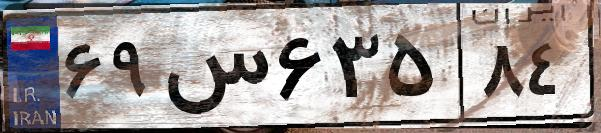3: (330, 28, 385, 110)
4: (525, 38, 570, 115)
5: (385, 28, 445, 110)
6: (270, 28, 330, 110), (57, 26, 110, 100)
8: (475, 38, 525, 113)
9: (110, 28, 158, 98)
س: (158, 20, 270, 120)
